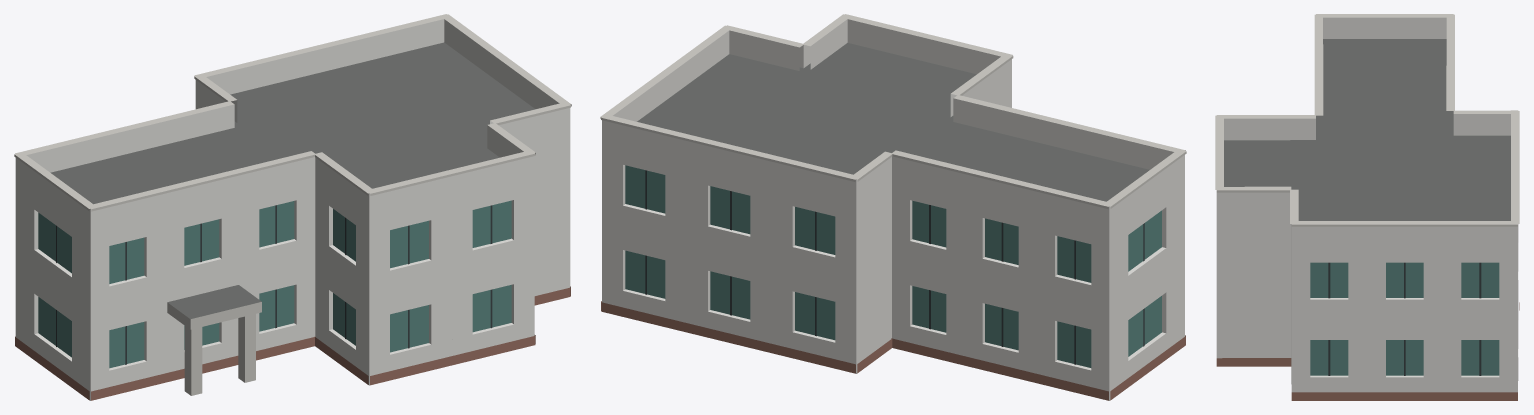
The picture shows the model from 3 angles, left to right: view 1: azimuth 30°, elevation 25°; view 2: azimuth 150°, elevation 25°; view 3: azimuth 270°, elevation 25°; orthographic projection. The views are drawn at different scales.
Parts seen in each view (by area): view 1: broadcasting__wall, broadcasting__roof, broadcasting__parapet, broadcasting__glass, broadcasting__trim, broadcasting__base, broadcasting__column, broadcasting__frame; view 2: broadcasting__wall, broadcasting__roof, broadcasting__parapet, broadcasting__glass, broadcasting__trim, broadcasting__base, broadcasting__frame; view 3: broadcasting__wall, broadcasting__roof, broadcasting__parapet, broadcasting__glass, broadcasting__trim, broadcasting__base, broadcasting__frame.
Boxes of the visible parts, x1,y1,x2,y2 form: broadcasting__wall: (15, 99, 570, 400); broadcasting__roof: (50, 42, 534, 400); broadcasting__parapet: (15, 19, 570, 231); broadcasting__glass: (38, 200, 511, 368); broadcasting__trim: (14, 14, 571, 329); broadcasting__base: (15, 286, 570, 400); broadcasting__column: (184, 314, 255, 395); broadcasting__frame: (56, 205, 492, 364); broadcasting__wall: (602, 79, 1184, 400); broadcasting__roof: (637, 43, 1149, 400); broadcasting__parapet: (602, 19, 1184, 229); broadcasting__glass: (625, 165, 1161, 367); broadcasting__trim: (600, 14, 1186, 209); broadcasting__base: (601, 301, 1185, 400); broadcasting__frame: (645, 170, 1144, 364); broadcasting__wall: (1216, 211, 1518, 392); broadcasting__roof: (1224, 39, 1510, 220); broadcasting__parapet: (1216, 17, 1518, 245); broadcasting__glass: (1310, 262, 1499, 375); broadcasting__trim: (1215, 14, 1519, 226); broadcasting__base: (1216, 302, 1519, 400); broadcasting__frame: (1328, 262, 1481, 375).
Bounding box in the file's own units: 20.99 × 8.22 × 12.81.
